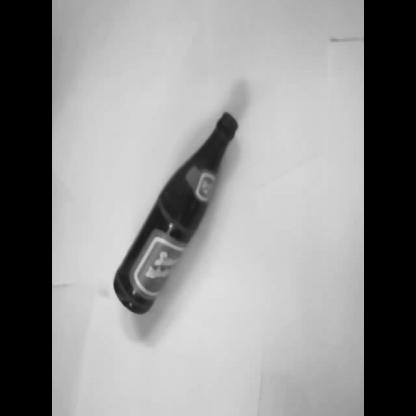Can: (113, 112, 239, 315)
